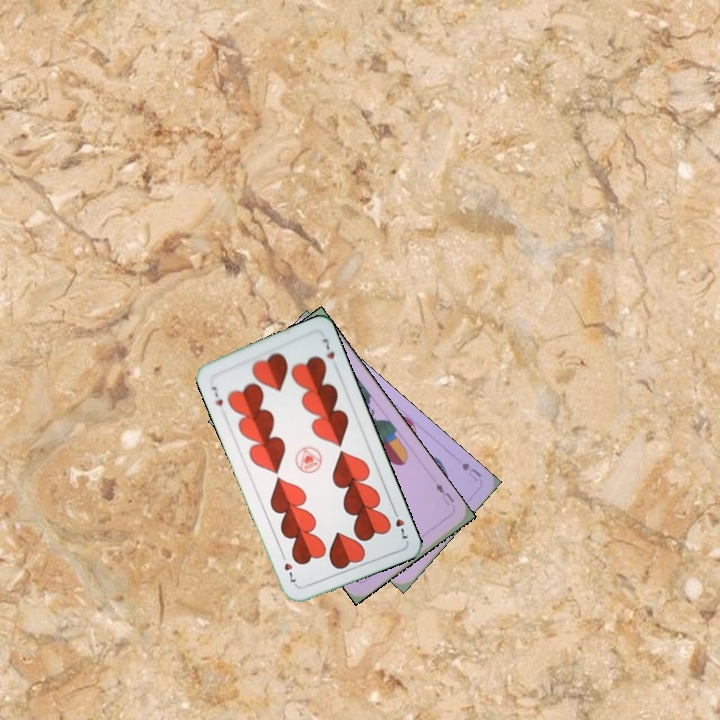EU: (431, 479, 457, 508)
H7: (389, 504, 410, 542), (207, 382, 225, 409)
SU: (458, 459, 484, 484)
